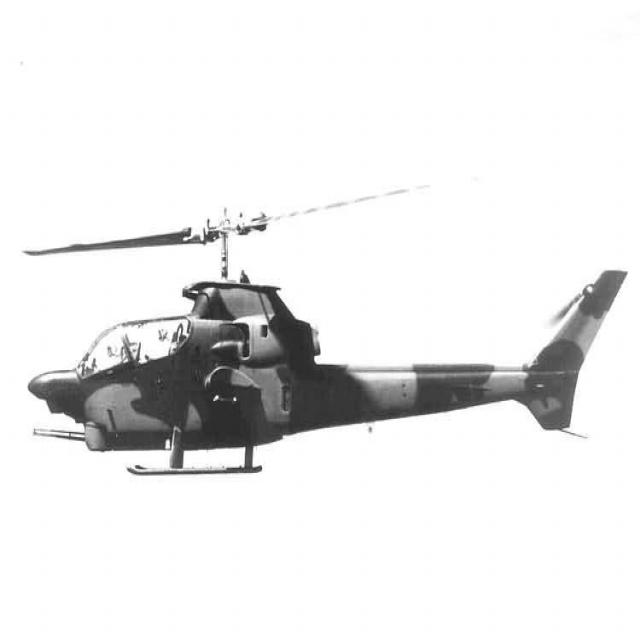MIL_HELO: (26, 186, 631, 504)
